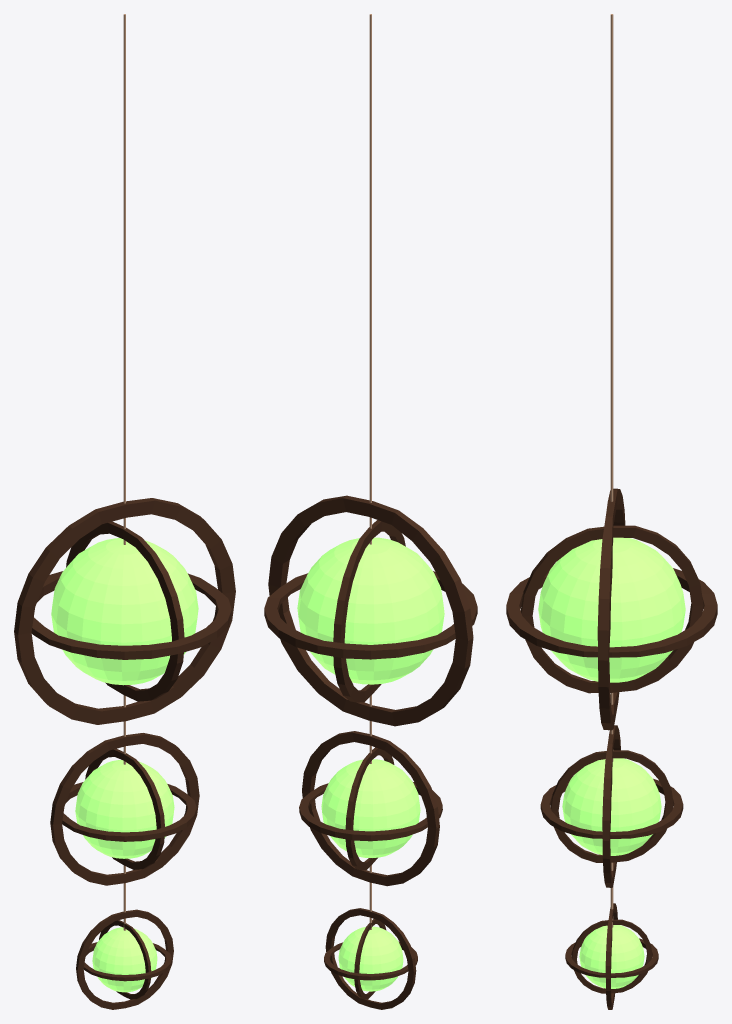
File: Luce 5 Verde .fbx
The picture shows the model from 3 angles, left to right: view 1: azimuth 30°, elevation 25°; view 2: azimuth 150°, elevation 25°; view 3: azimuth 270°, elevation 25°; orthographic projection.
Parts seen in each view (by area): view 1: Sphere.025; view 2: Sphere.025; view 3: Sphere.025.
Boxes of the visible parts, x1,y1,x2,y2 form: Sphere.025: (14,14,235,1009); Sphere.025: (264,14,477,1009); Sphere.025: (506,14,717,1009).
Bounding box in the file's own units: 61.59 × 279 × 54.08.
